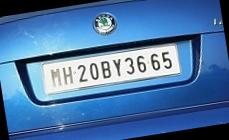plate: (19, 25, 191, 117)
